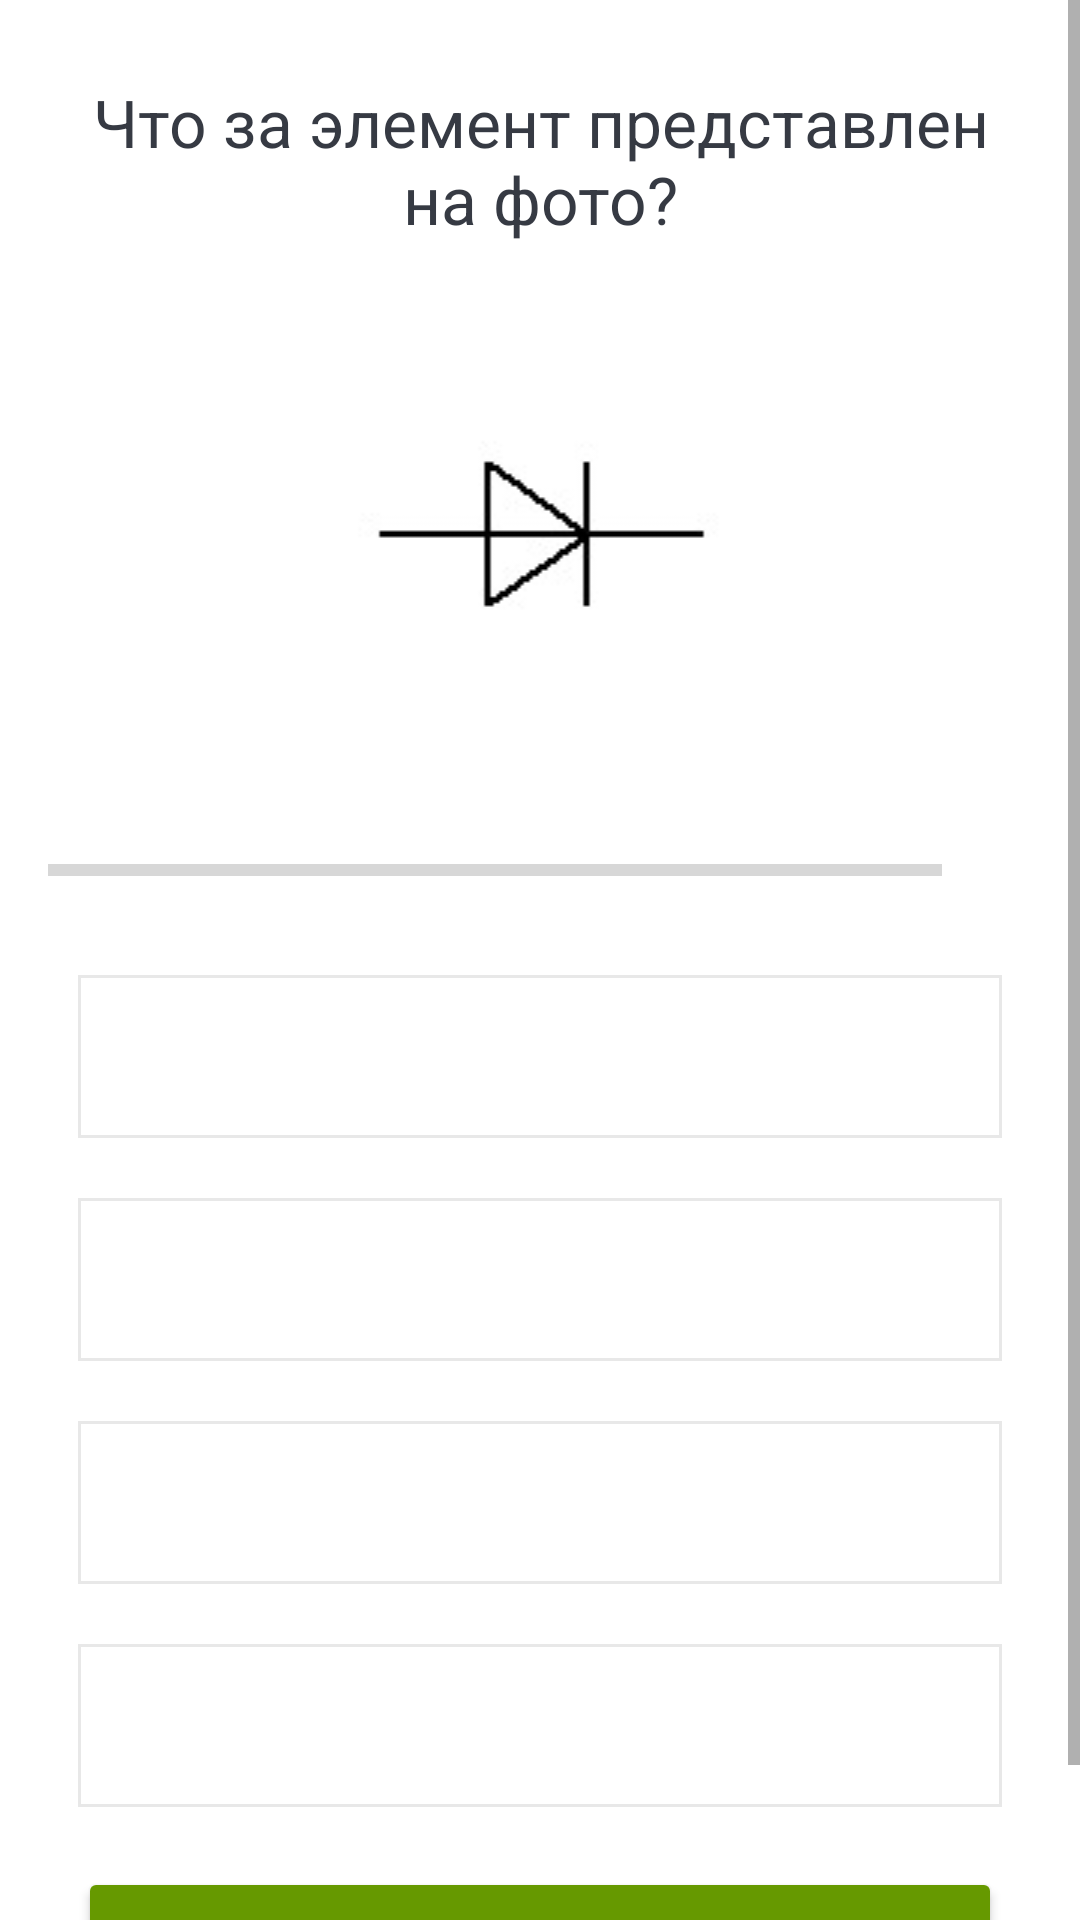

Named icons in this screenshot (1080*1920) and their bounding boxes, (left=x1, top=y1, right=x2, bottom=y2):
diod: (left=378, top=461, right=705, bottom=607)
